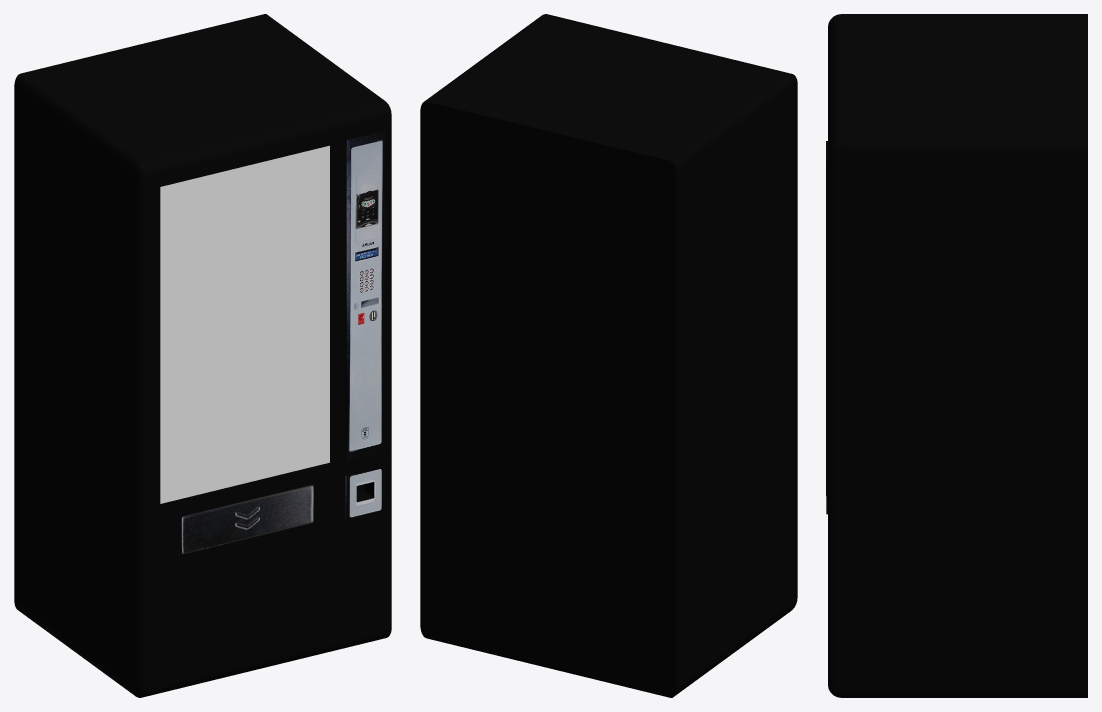
File: vending_machine.glb
The picture shows the model from 3 angles, left to right: view 1: azimuth 30°, elevation 25°; view 2: azimuth 150°, elevation 25°; view 3: azimuth 270°, elevation 25°; orthographic projection. The views are drawn at different scales.
Visible parts, largest first — view 1: Plane; view 2: Plane; view 3: Plane.
Boxes of the visible parts, x1=… form: Plane: x1=14, y1=14, x2=391, y2=697; Plane: x1=420, y1=14, x2=797, y2=697; Plane: x1=826, y1=14, x2=1087, y2=697.
Bounding box in the file's own units: 0.9141 × 1.83 × 0.7764.
4 materials, 3 textured.
